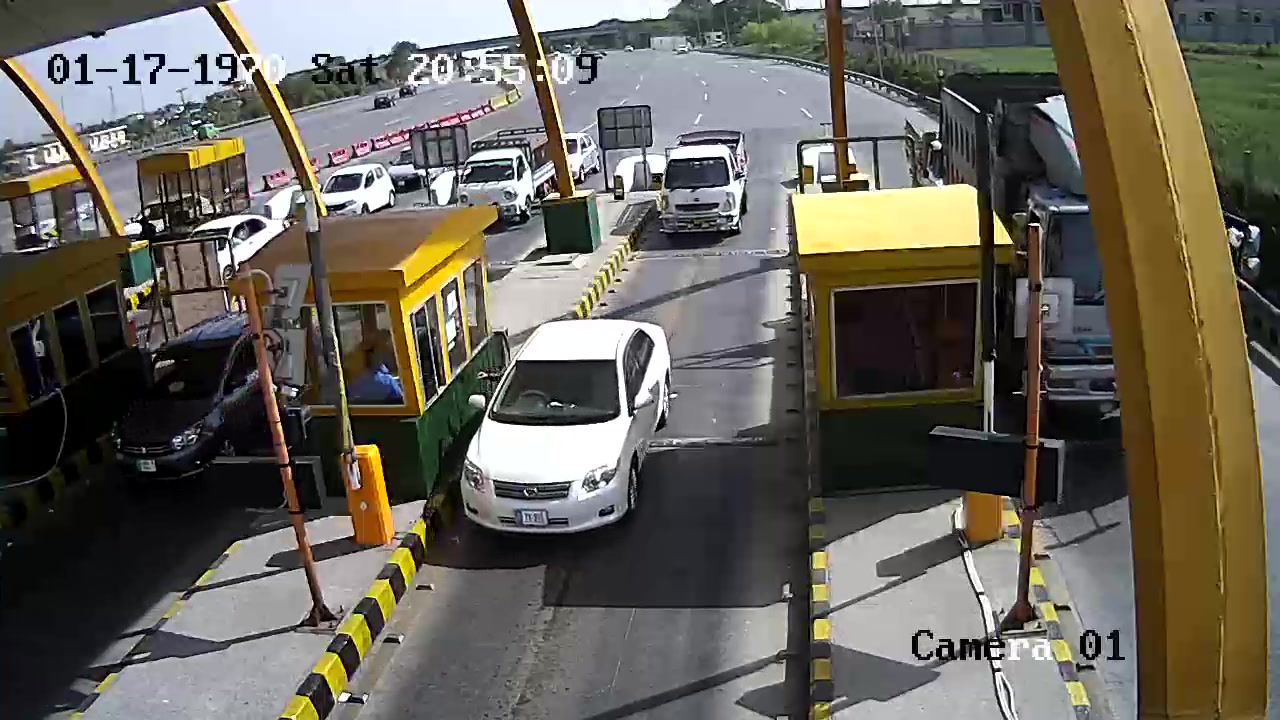F1: (460, 313, 676, 538)
